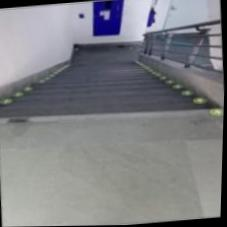Animal: (25, 69, 173, 147)
